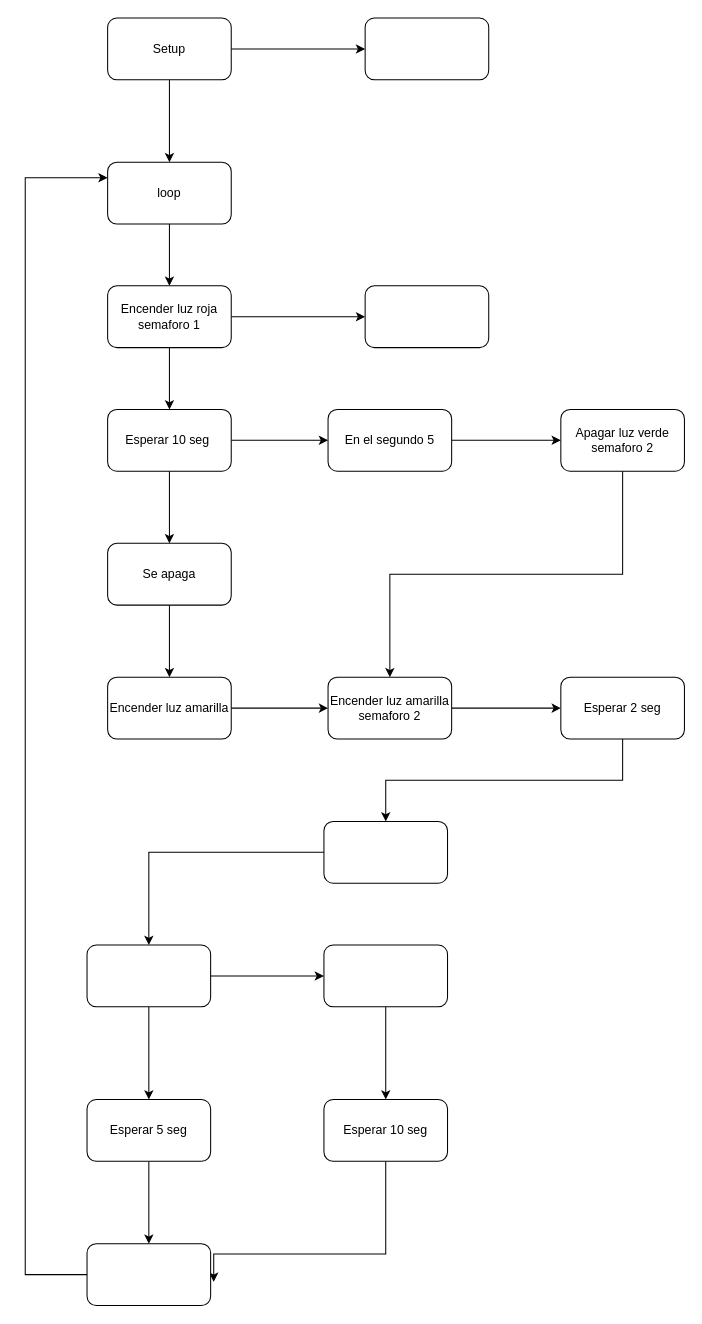
Some shapes in this 702 by 1324 pixel diagram are drawn without their labels. The centre of each missing label's shape, as x and y in pixels:
"Agregar 6 leds" belongs at (x=426, y=48).
"apagar" belongs at (x=148, y=1274).
"Apagar luces amarillas" belongs at (x=385, y=851).
"Encender luz roja semaforo 2" belongs at (x=385, y=975).
"Encender luz verde" belongs at (x=148, y=975).
"Encender luz verde semaforo 2" belongs at (x=426, y=316).
